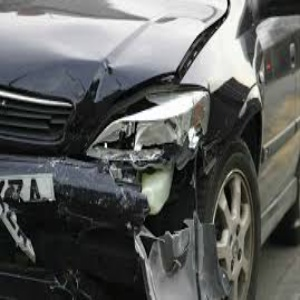bumper: (59, 180, 203, 294)
head_lights: (86, 88, 209, 171)
